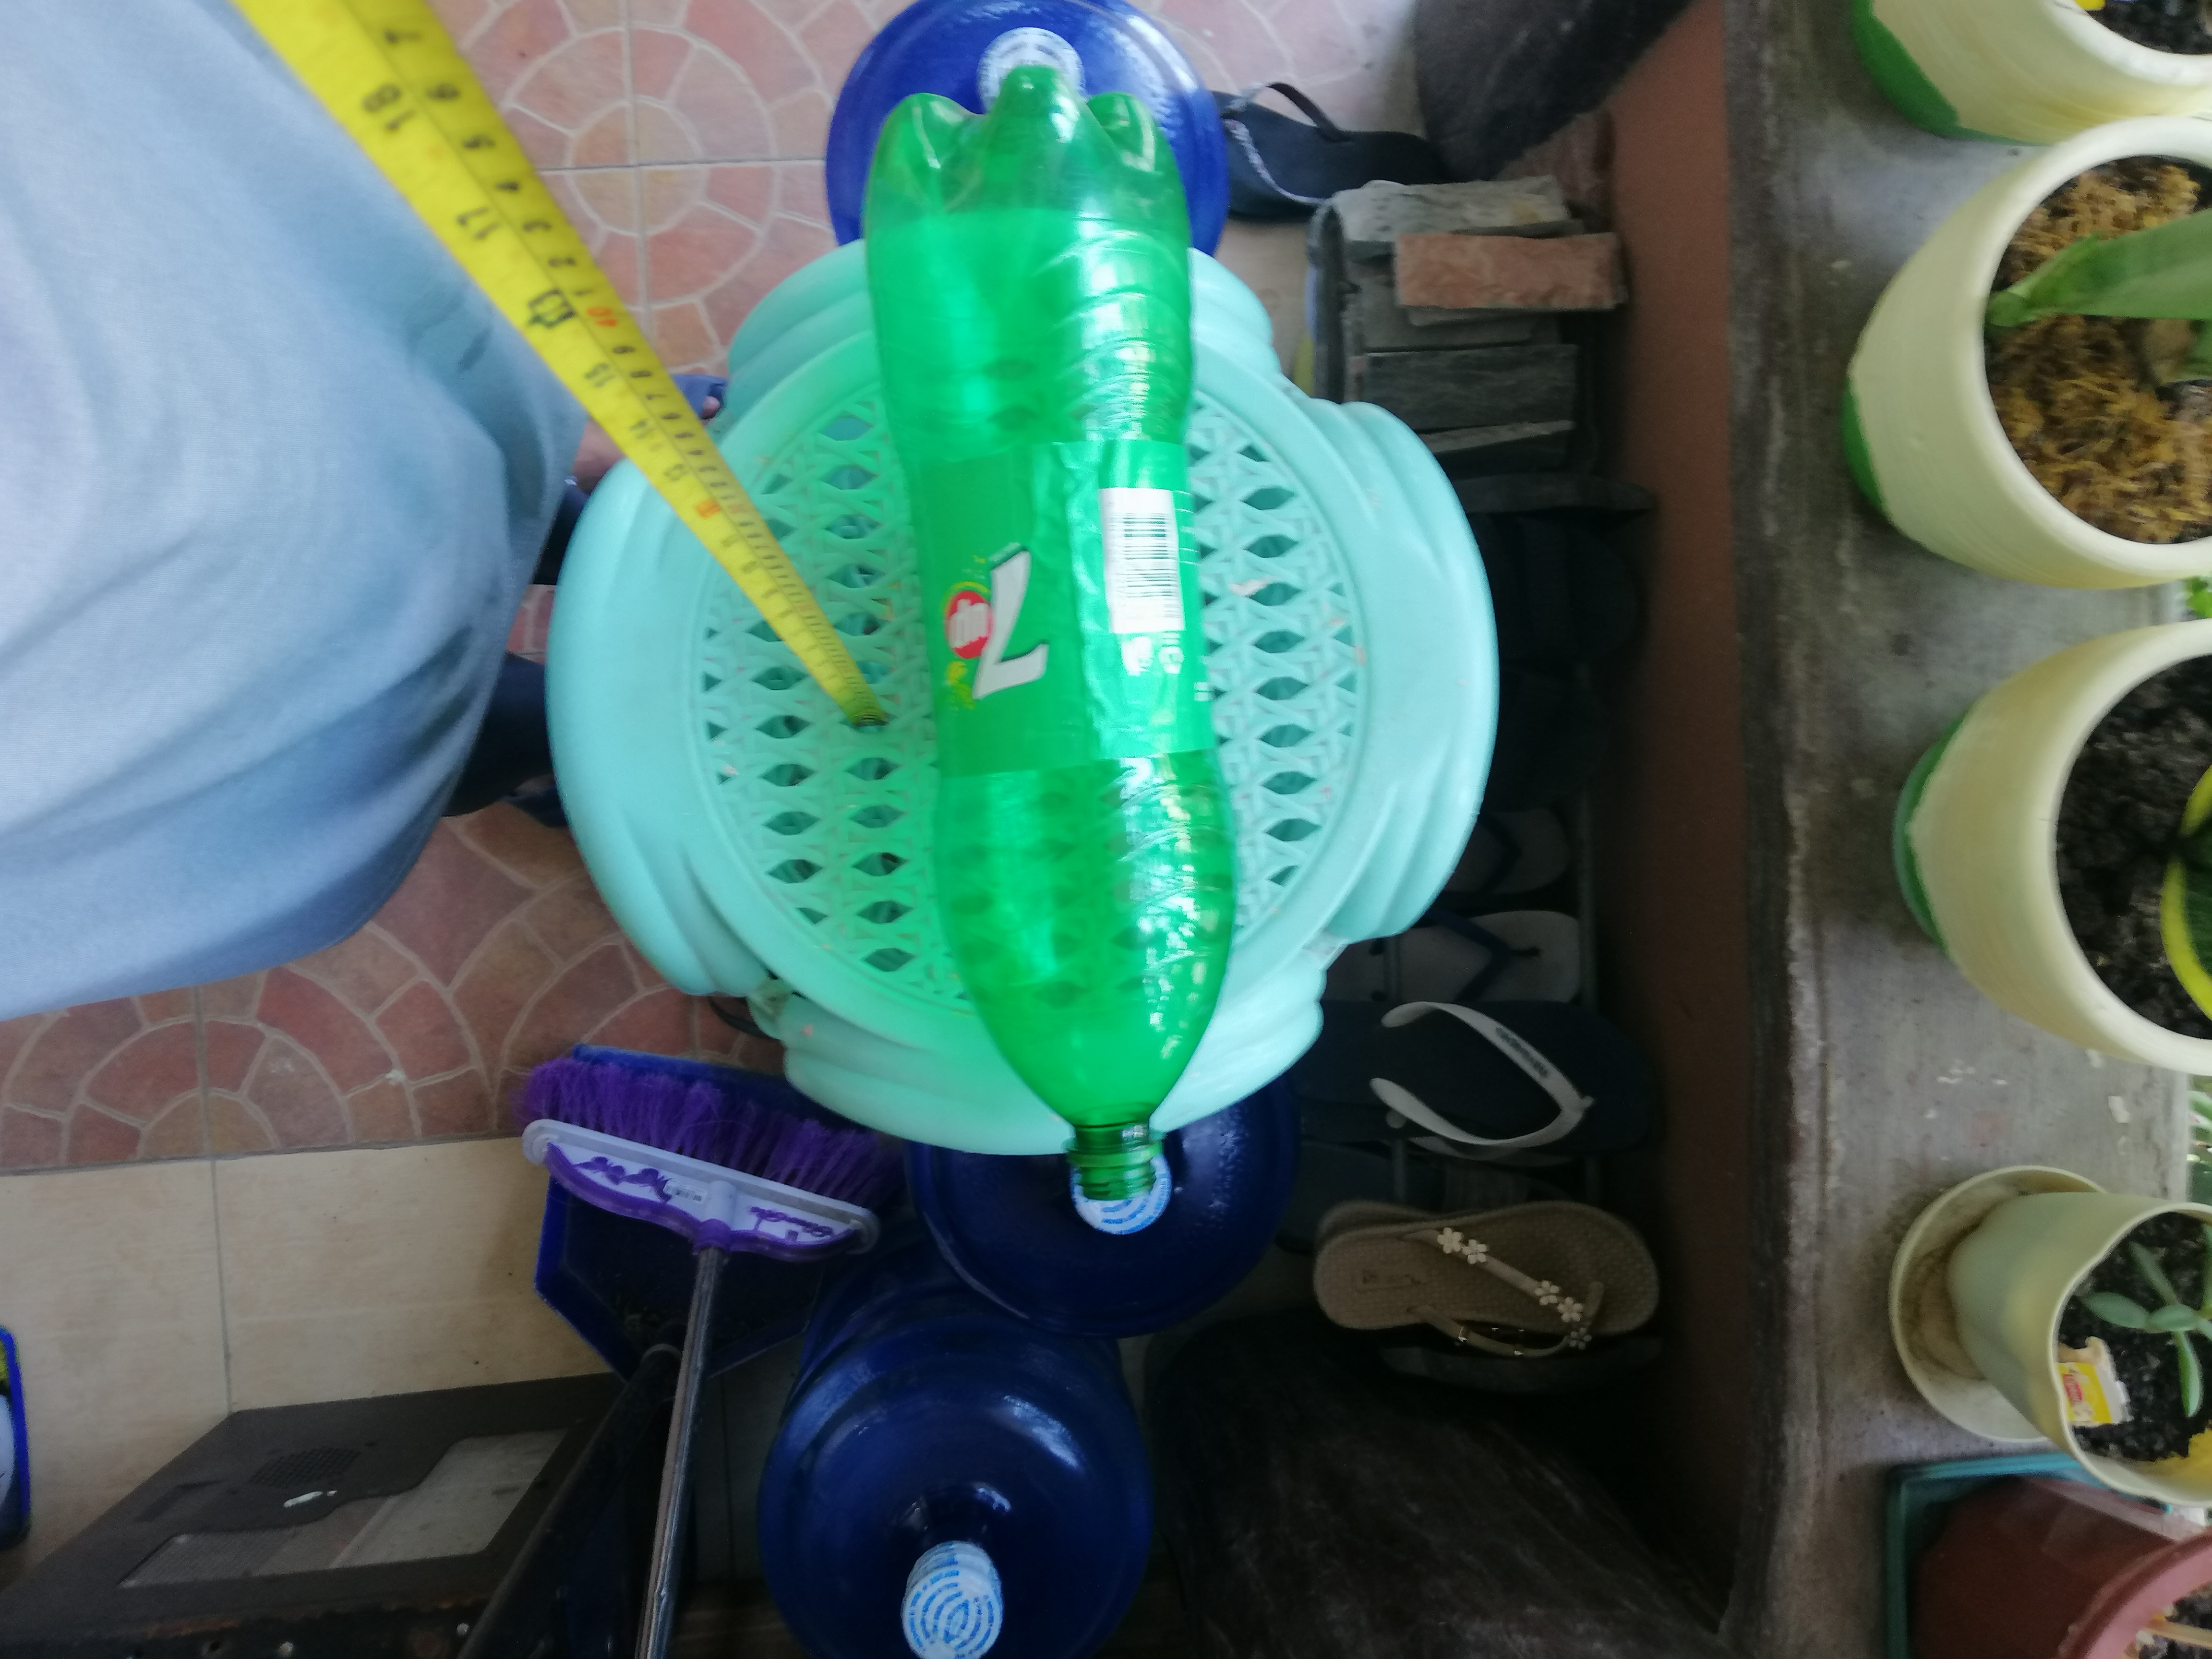bottle: (855, 77, 1291, 1197)
